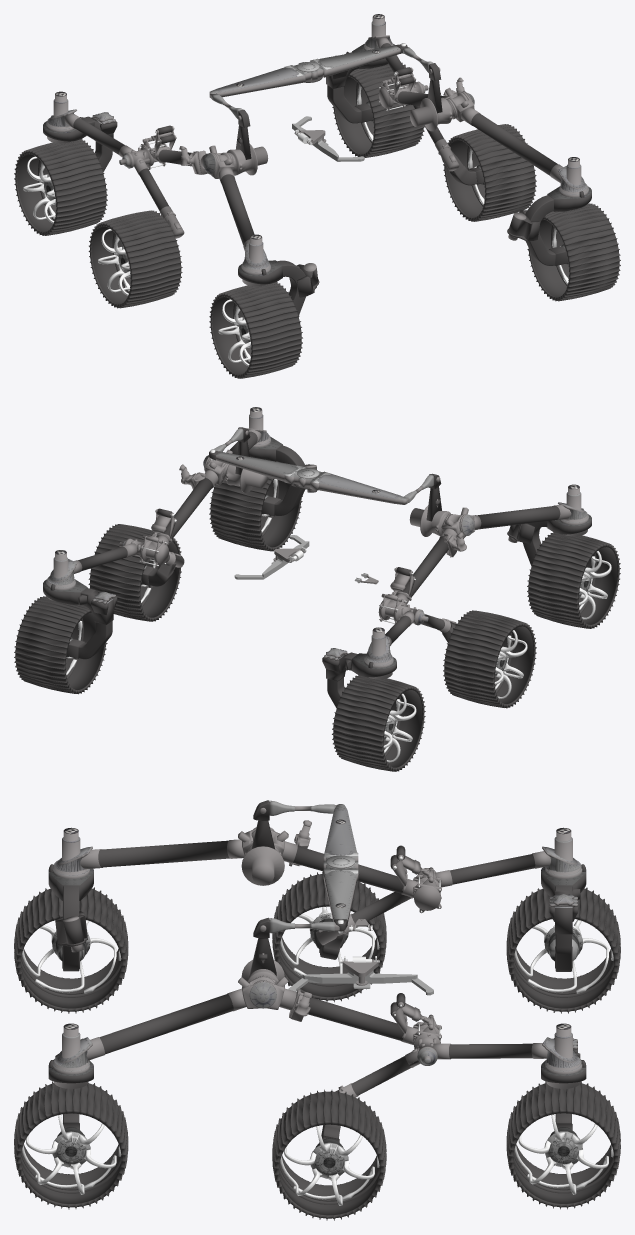
Rendered from mars2020_mobility_drive.glb.
3 renders of one model, top to bottom at view 1: azimuth 30°, elevation 25°; view 2: azimuth 150°, elevation 25°; view 3: azimuth 270°, elevation 25°, orthographic. The views are drawn at different scales.
Visible parts, largest first — view 1: suspension, drive_wheel_middle_right, drive_wheel_front_right, drive_wheel_rear_right, drive_wheel_front_left, drive_wheel_middle_left, drive_wheel_rear_left, arm_02.001; view 2: suspension, drive_wheel_middle_right, drive_wheel_rear_right, drive_wheel_front_right, drive_wheel_rear_left, drive_wheel_middle_left, drive_wheel_front_left, arm_02.001; view 3: suspension, drive_wheel_middle_left, drive_wheel_front_left, drive_wheel_rear_left, drive_wheel_rear_right, drive_wheel_front_right, drive_wheel_middle_right, arm_02.001, arm_02.
Boxes of the visible parts, x1,y1,x2,y2 form: suspension: (43,14,591,315); drive_wheel_middle_right: (88,210,182,308); drive_wheel_front_right: (209,282,302,378); drive_wheel_rear_right: (14,139,107,235); drive_wheel_front_left: (527,203,620,301); drive_wheel_middle_left: (443,124,536,221); drive_wheel_rear_left: (332,62,424,157); arm_02.001: (292,116,364,161); suspension: (43,407,591,706); drive_wheel_middle_right: (443,610,536,708); drive_wheel_rear_right: (332,675,425,771); drive_wheel_front_right: (527,532,620,628); drive_wheel_rear_left: (14,596,107,694); drive_wheel_middle_left: (88,524,182,621); drive_wheel_front_left: (209,461,302,551); arm_02.001: (234,535,309,579); suspension: (48,800,586,1142); drive_wheel_middle_left: (272,1089,386,1220); drive_wheel_front_left: (14,1081,128,1209); drive_wheel_rear_left: (506,1081,620,1209); drive_wheel_rear_right: (506,887,620,1013); drive_wheel_front_right: (14,887,128,1013); drive_wheel_middle_right: (272,872,386,1002); arm_02.001: (288,970,433,995); arm_02: (342,959,378,988).
Bounding box in the file's own units: 2.7 × 1.2 × 2.79.
11 materials, 4 textured.
